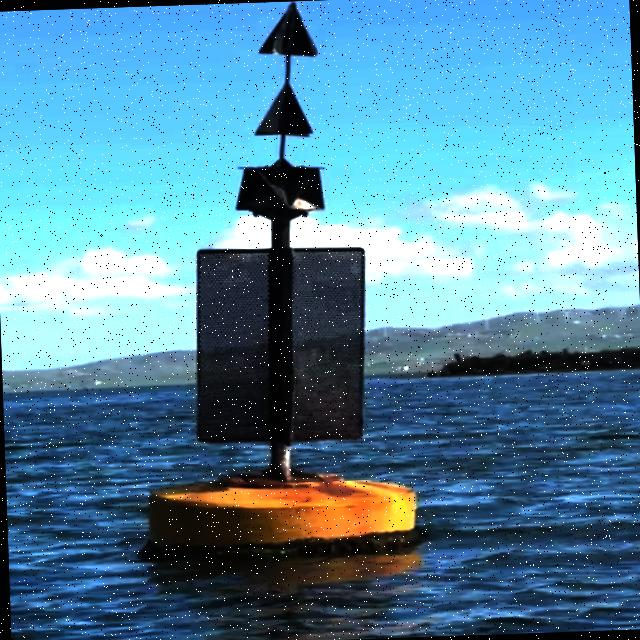marque: (108, 1, 433, 568)
